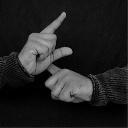hand: (17, 11, 73, 76), (44, 63, 94, 103)
